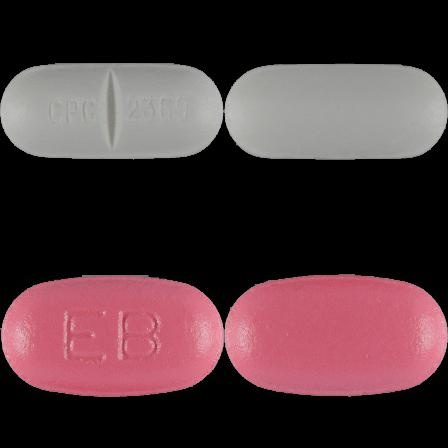69189-0104: (0, 0, 224, 224)
